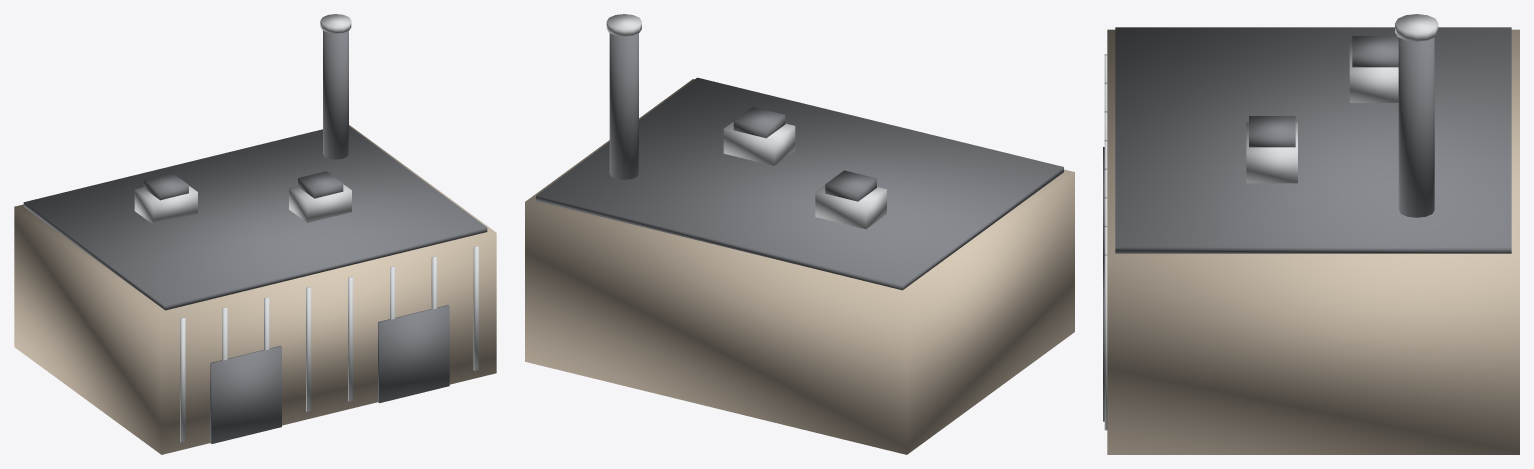
Rendered from ind-factory-a.glb.
The picture shows the model from 3 angles, left to right: view 1: azimuth 30°, elevation 25°; view 2: azimuth 150°, elevation 25°; view 3: azimuth 270°, elevation 25°; orthographic projection. The views are drawn at different scales.
Visible parts, largest first — view 1: CC_IndFactoryA_Body, CC_IndFactoryA_Roof, CC_IndFactoryA_Door_1, CC_IndFactoryA_Door_0, CC_IndFactoryA_Ribs, CC_IndFactoryA_Stack, CC_IndFactoryA_HVAC_0, CC_IndFactoryA_HVAC_1, CC_IndFactoryA_Vent_1, CC_IndFactoryA_Vent_0, CC_IndFactoryA_StackCap; view 2: CC_IndFactoryA_Body, CC_IndFactoryA_Roof, CC_IndFactoryA_Stack, CC_IndFactoryA_HVAC_1, CC_IndFactoryA_HVAC_0, CC_IndFactoryA_Vent_1, CC_IndFactoryA_Vent_0, CC_IndFactoryA_StackCap; view 3: CC_IndFactoryA_Body, CC_IndFactoryA_Roof, CC_IndFactoryA_Stack, CC_IndFactoryA_HVAC_1, CC_IndFactoryA_HVAC_0, CC_IndFactoryA_Ribs, CC_IndFactoryA_Vent_1, CC_IndFactoryA_Vent_0, CC_IndFactoryA_StackCap.
Boxes of the visible parts, x1,y1,x2,y2 form: CC_IndFactoryA_Body: (14,125,496,454); CC_IndFactoryA_Roof: (23,126,487,310); CC_IndFactoryA_Door_1: (378,305,449,403); CC_IndFactoryA_Door_0: (210,346,281,443); CC_IndFactoryA_Ribs: (180,246,478,442); CC_IndFactoryA_Stack: (323,31,348,159); CC_IndFactoryA_HVAC_0: (134,186,197,224); CC_IndFactoryA_HVAC_1: (289,184,351,222); CC_IndFactoryA_Vent_1: (298,171,343,198); CC_IndFactoryA_Vent_0: (143,173,188,200); CC_IndFactoryA_StackCap: (320,14,351,33); CC_IndFactoryA_Body: (525,79,1074,454); CC_IndFactoryA_Roof: (536,77,1063,290); CC_IndFactoryA_Stack: (609,33,638,179); CC_IndFactoryA_HVAC_1: (723,122,795,165); CC_IndFactoryA_HVAC_0: (815,185,886,229); CC_IndFactoryA_Vent_1: (733,107,785,138); CC_IndFactoryA_Vent_0: (825,170,876,201); CC_IndFactoryA_StackCap: (606,14,641,36); CC_IndFactoryA_Body: (1107,29,1519,454); CC_IndFactoryA_Roof: (1115,27,1511,253); CC_IndFactoryA_Stack: (1398,37,1434,217); CC_IndFactoryA_HVAC_1: (1246,122,1297,183); CC_IndFactoryA_HVAC_0: (1349,42,1398,102); CC_IndFactoryA_Ribs: (1104,54,1107,430); CC_IndFactoryA_Vent_1: (1249,116,1295,147); CC_IndFactoryA_Vent_0: (1352,36,1398,67); CC_IndFactoryA_StackCap: (1395,14,1438,41).
Bounding box in the file's own units: 10.5 × 8.5 × 8.08.
